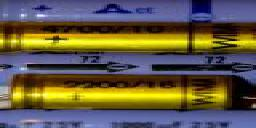Electrolytic-Capacitor: (7, 60, 249, 117), (1, 15, 256, 56)
